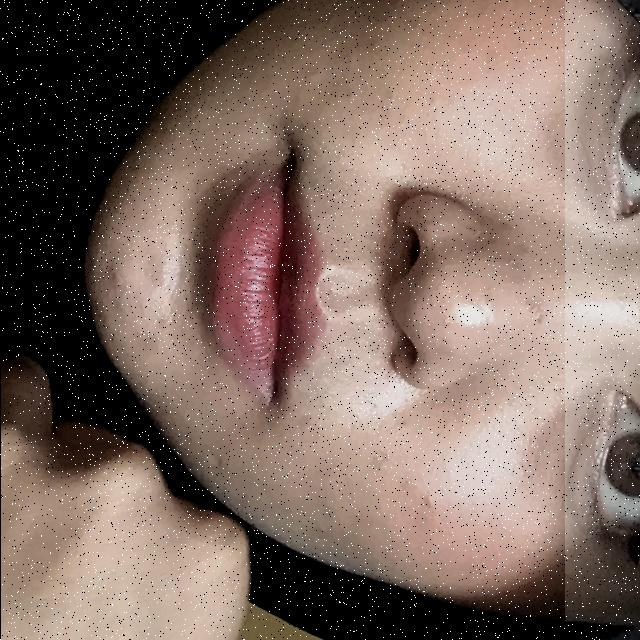telpon: (0, 0, 564, 640)
